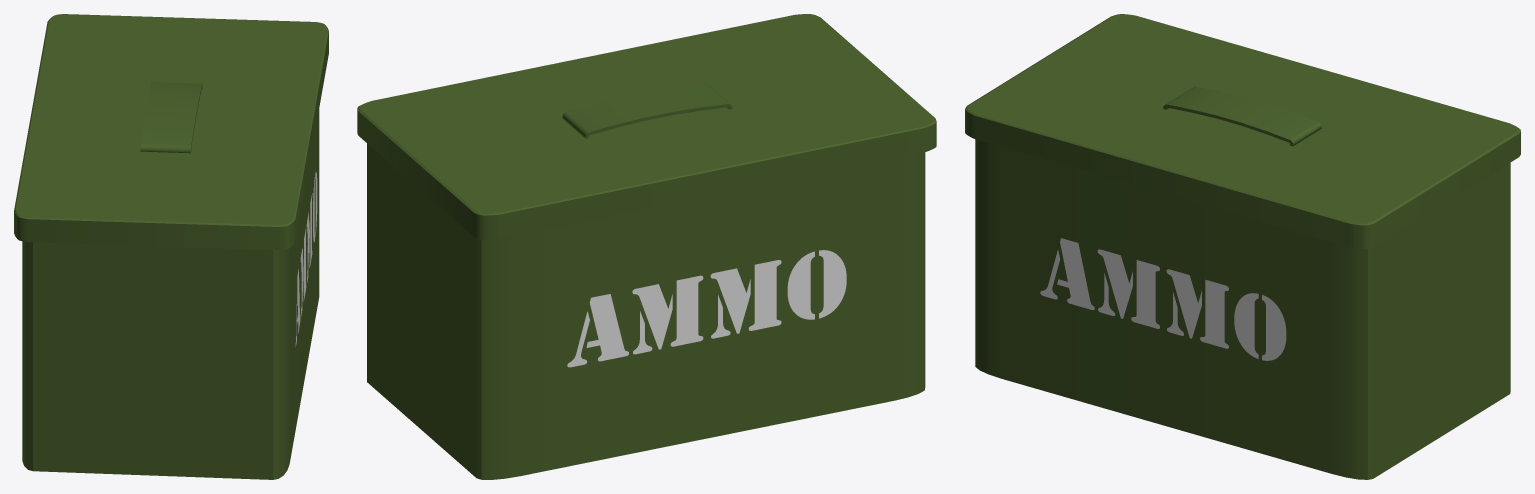
Rendered from Ammo_.fbx.
The picture shows the model from 3 angles, left to right: view 1: azimuth 30°, elevation 25°; view 2: azimuth 150°, elevation 25°; view 3: azimuth 270°, elevation 25°; orthographic projection. The views are drawn at different scales.
Parts seen in each view (by area): view 1: Cube.003, Text; view 2: Cube.003, Text.001; view 3: Cube.003, Text.
Part boxes in pixels (x1,y1,x2,y2): Cube.003: (14,14,328,479); Text: (295,172,317,346); Cube.003: (357,14,936,479); Text.001: (567,250,846,367); Cube.003: (965,14,1520,479); Text: (1040,238,1286,360).
Bounding box in the file's own units: 64.92 × 38.56 × 72.14.
